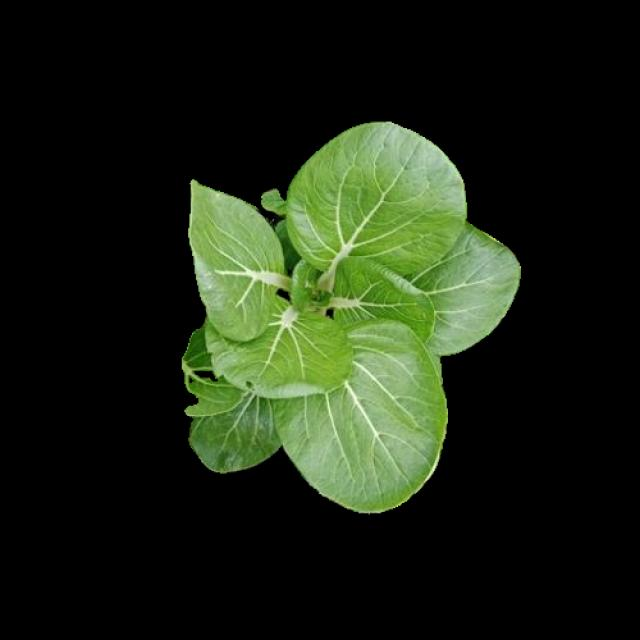mature: (174, 122, 525, 508)
unhealthy: (176, 305, 280, 471)
